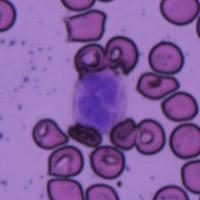N: (72, 69, 128, 134)
